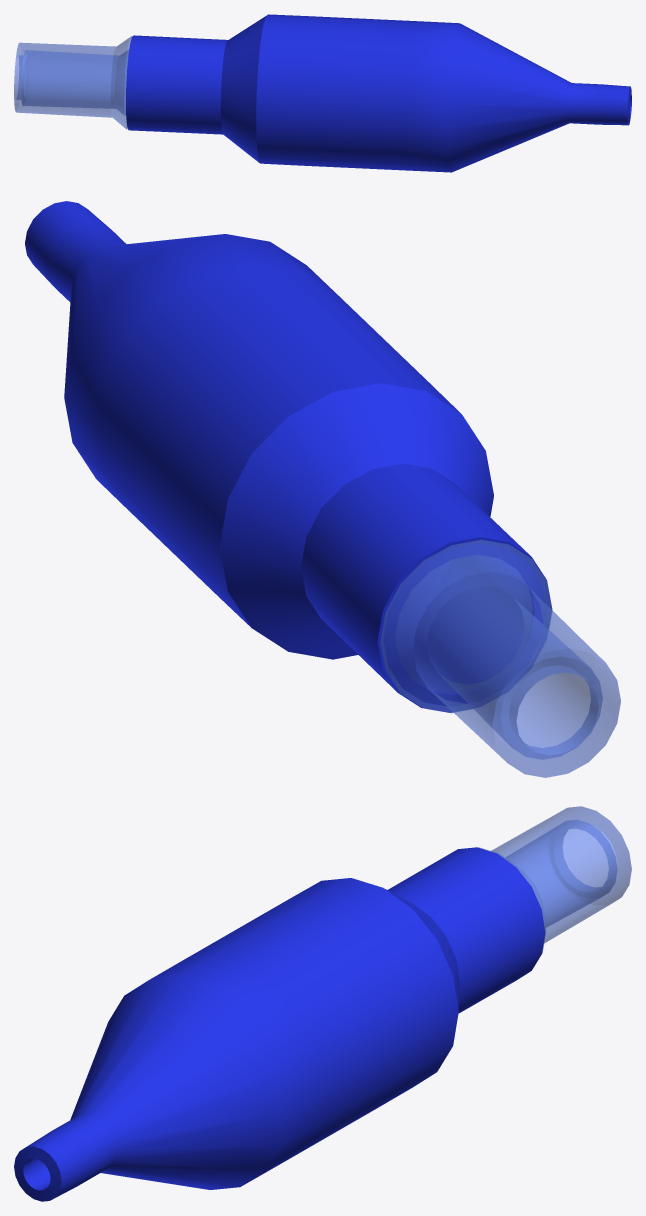
Rendered from endoTubeTube.FBX.
3 views of the same model, one above another, from view 1: azimuth 30°, elevation 25°; view 2: azimuth 150°, elevation 25°; view 3: azimuth 270°, elevation 25° (orthographic). The views are drawn at different scales.
Parts seen in each view (by area): view 1: InjectorBody, InjectorHead; view 2: InjectorBody, InjectorHead; view 3: InjectorBody, InjectorHead.
Part boxes in pixels (x1,y1,x2,y2): InjectorBody: [126, 14, 631, 172]; InjectorHead: [14, 36, 131, 129]; InjectorBody: [25, 201, 551, 712]; InjectorHead: [380, 539, 620, 777]; InjectorBody: [14, 847, 545, 1201]; InjectorHead: [478, 806, 631, 953].
Size of the model in its own units: 17.46 by 4.88 by 13.46.
